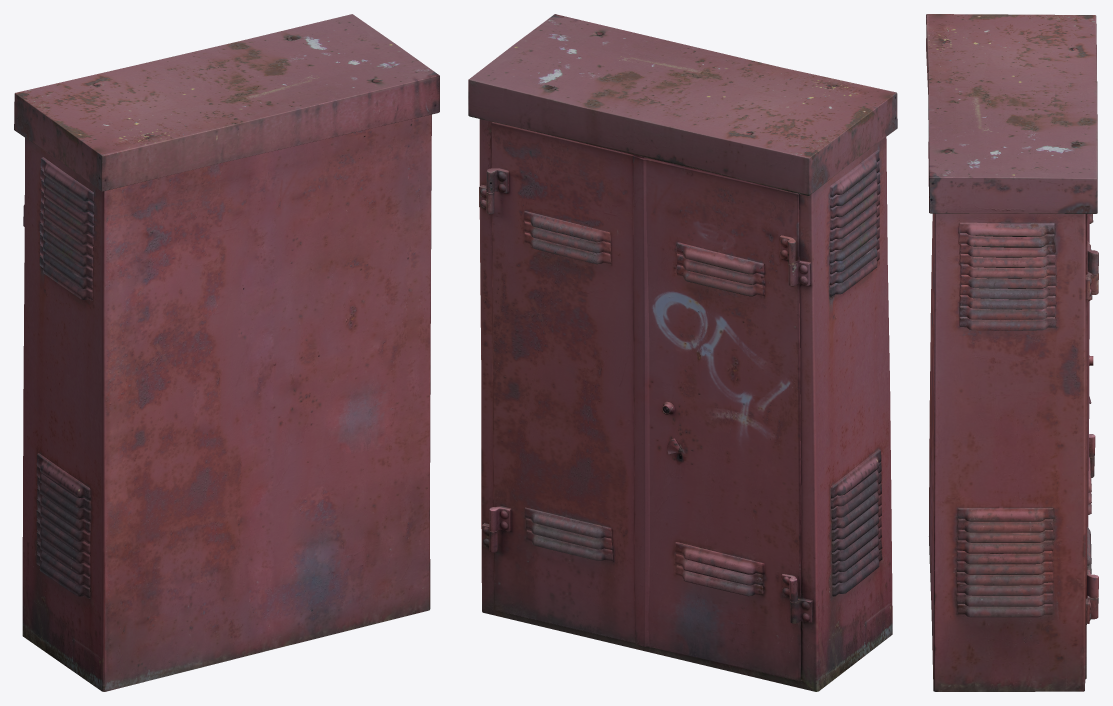
The model's file is sm_FuseBox_02_01.fbx.
The picture shows the model from 3 angles, left to right: view 1: azimuth 30°, elevation 25°; view 2: azimuth 150°, elevation 25°; view 3: azimuth 270°, elevation 25°; orthographic projection. The views are drawn at different scales.
Visible parts, largest first — view 1: sm_FuseBox_02_01_LOD0; view 2: sm_FuseBox_02_01_LOD0; view 3: sm_FuseBox_02_01_LOD0.
Boxes of the visible parts, box(x1,y1,x2,y2) form: sm_FuseBox_02_01_LOD0: box(14, 14, 439, 691); sm_FuseBox_02_01_LOD0: box(468, 14, 897, 691); sm_FuseBox_02_01_LOD0: box(926, 14, 1098, 691).
Size of the model in its own units: 47.19 by 105 by 157.
